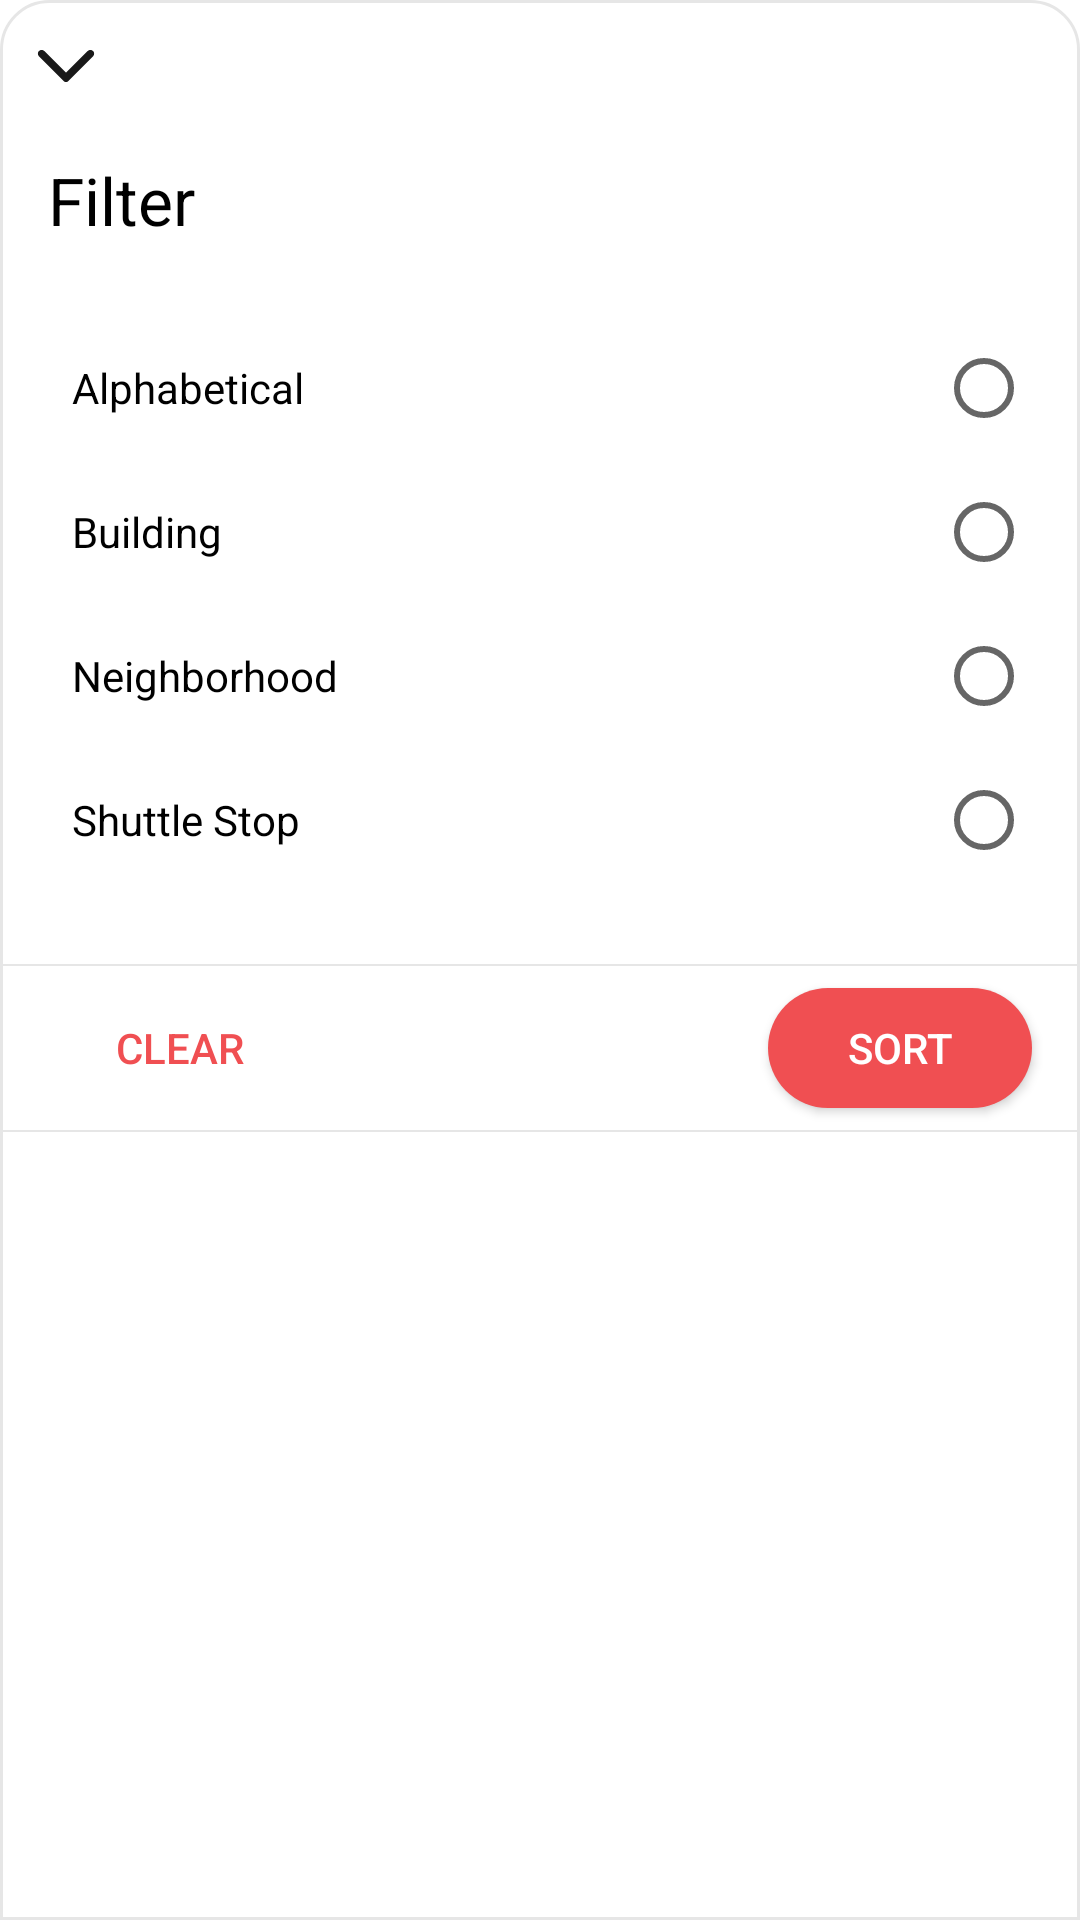

Named icons in this screenshot (1080x1920) and their centers, [x,y]:
down close: [66,66]
